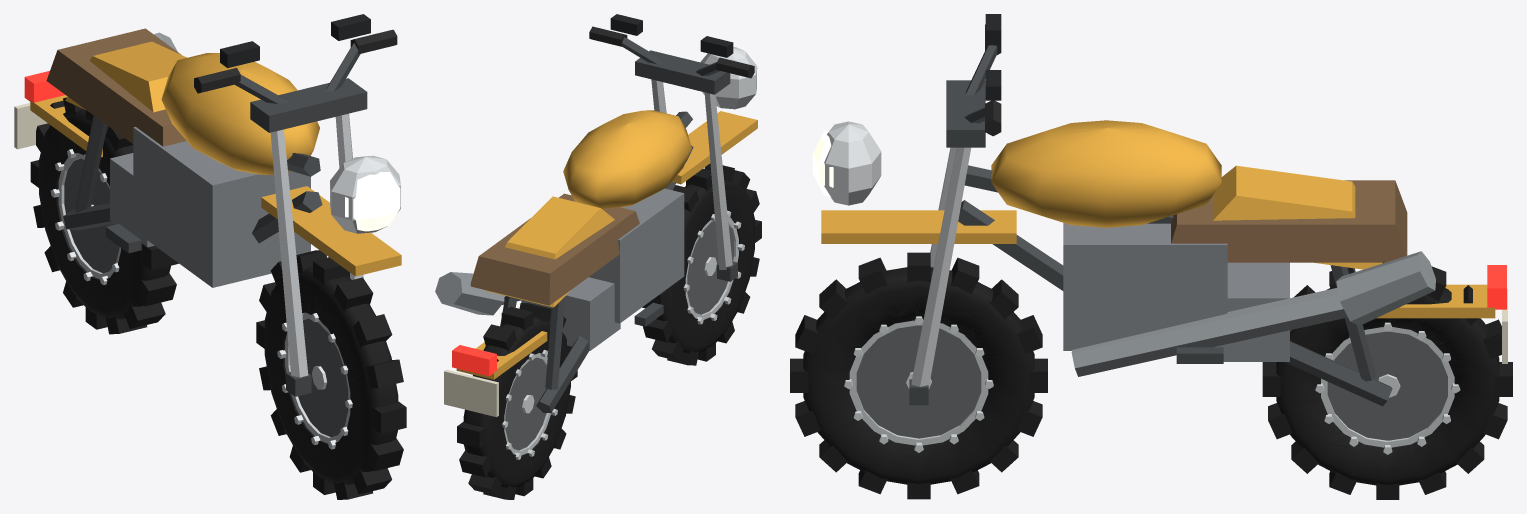
File: pebble-trials-norider.glb
3 views of the same model, side by side, from view 1: azimuth 30°, elevation 25°; view 2: azimuth 150°, elevation 25°; view 3: azimuth 270°, elevation 25° (orthographic). The views are drawn at different scales.
Parts seen in each view (by area): view 1: frame, wheel_F, fork, wheel_R, headlight, plate_R, taillight; view 2: frame, wheel_R, wheel_F, fork, plate_R, headlight, taillight; view 3: frame, wheel_F, wheel_R, fork, headlight, taillight.
Boxes of the visible parts, x1,y1,x2,y2 form: frame: [30, 28, 322, 287]; wheel_F: [256, 250, 406, 499]; fork: [194, 14, 401, 396]; wheel_R: [30, 97, 178, 334]; headlight: [330, 155, 400, 233]; plate_R: [14, 103, 47, 149]; taillight: [24, 71, 64, 103]; frame: [435, 110, 693, 412]; wheel_R: [457, 303, 577, 499]; wheel_F: [642, 163, 761, 365]; fork: [589, 14, 757, 281]; plate_R: [444, 369, 498, 417]; headlight: [700, 47, 757, 109]; taillight: [452, 345, 496, 376]; frame: [958, 120, 1495, 406]; wheel_F: [790, 252, 1047, 499]; wheel_R: [1262, 262, 1512, 499]; fork: [821, 14, 1016, 405]; headlight: [812, 121, 881, 205]; taillight: [1487, 265, 1506, 309].
Size of the model in its own units: 0.5996 by 1.25 by 1.85.
